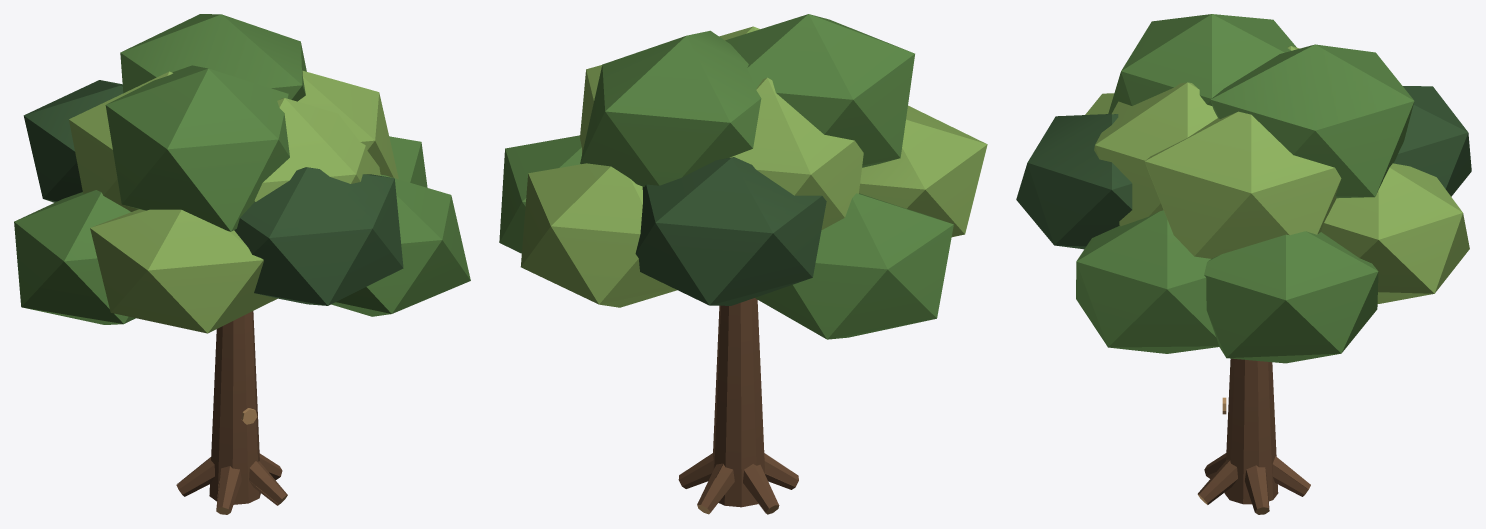
The model's file is tree_a.glb.
3 renders of one model, left to right at view 1: azimuth 30°, elevation 25°; view 2: azimuth 150°, elevation 25°; view 3: azimuth 270°, elevation 25°, orthographic. The views are drawn at different scales.
Visible parts, largest first — view 1: tree_a; view 2: tree_a; view 3: tree_a.
Part boxes in pixels (bbox=[...]): tree_a: bbox=[14, 14, 470, 514]; tree_a: bbox=[499, 14, 987, 514]; tree_a: bbox=[1016, 14, 1471, 514].
Size of the model in its own units: 7.03 by 7.53 by 6.79.
